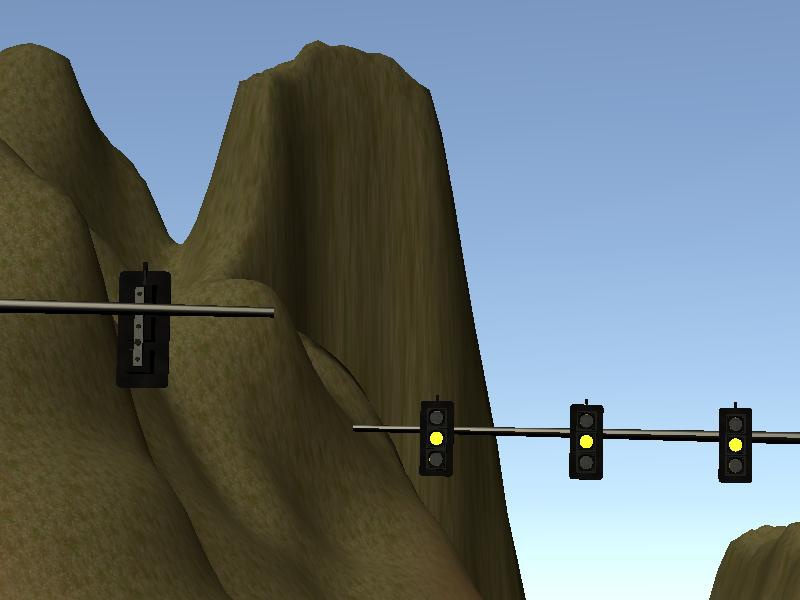yellow_light: (572, 404, 604, 481), (420, 401, 453, 474), (720, 411, 751, 483)
